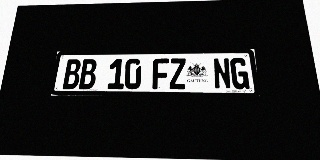0: (124, 59, 141, 89)
1: (107, 59, 125, 89)
B: (62, 59, 81, 89), (79, 59, 97, 89)
F: (152, 58, 169, 89)
G: (230, 58, 250, 89)
N: (213, 58, 232, 89)
Z: (169, 58, 186, 89)
